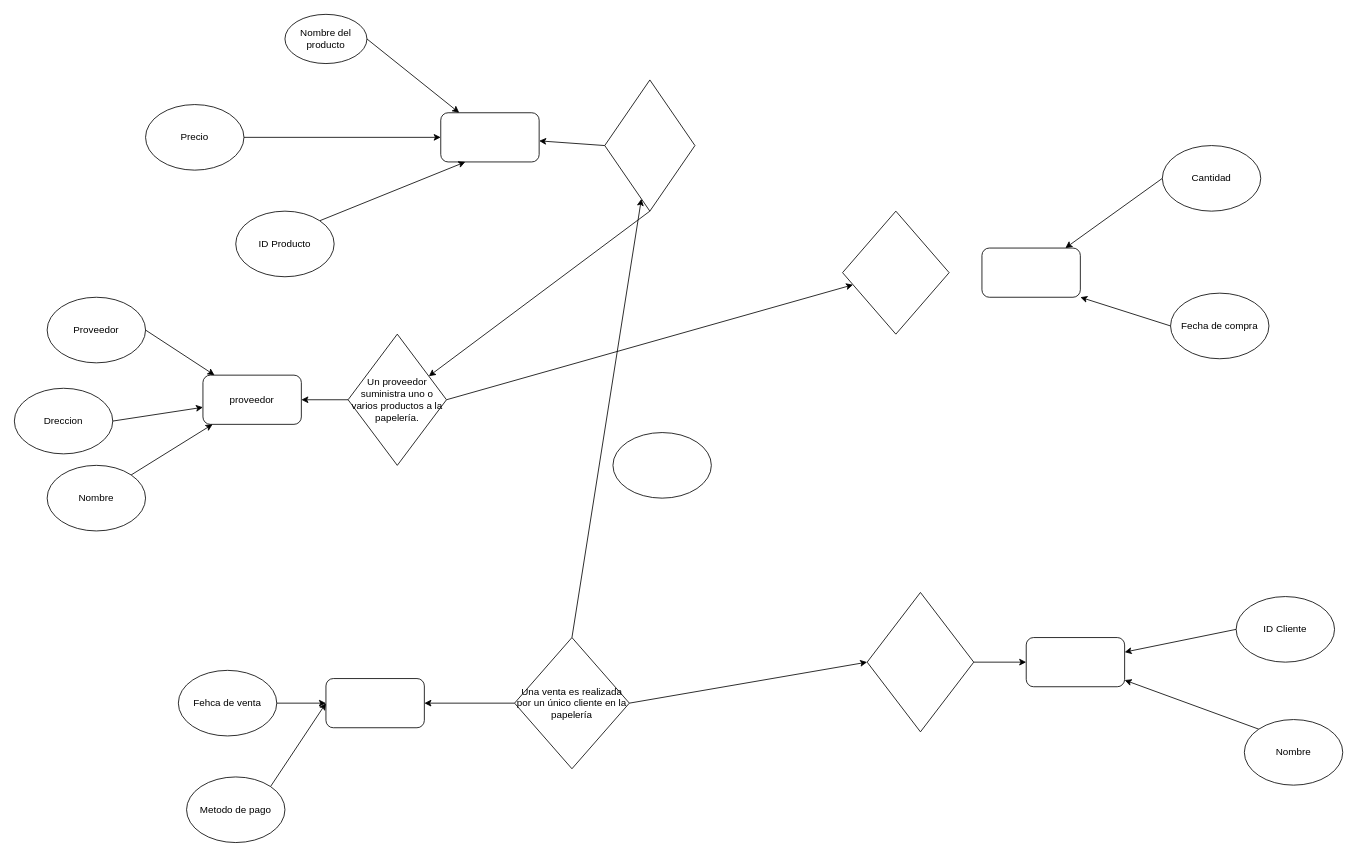
The diagram is 1357 pixels wide and 857 high, and some of its shapes have lost their labels. The shapes that lost their labels are listed below. From the top down, each one's centre as x and y in pixels, then its label:
pixel 489 137: Producto
pixel 649 145: Un producto es suministrado por uno o varios proveedores a la papelería
pixel 895 272: Comprar varios productos al proveedor
pixel 1030 272: compra
pixel 661 465: PAPELERIA
pixel 920 662: Un cliente realiza una o varias compras en la papelería
pixel 1075 662: cliente
pixel 374 703: venta
